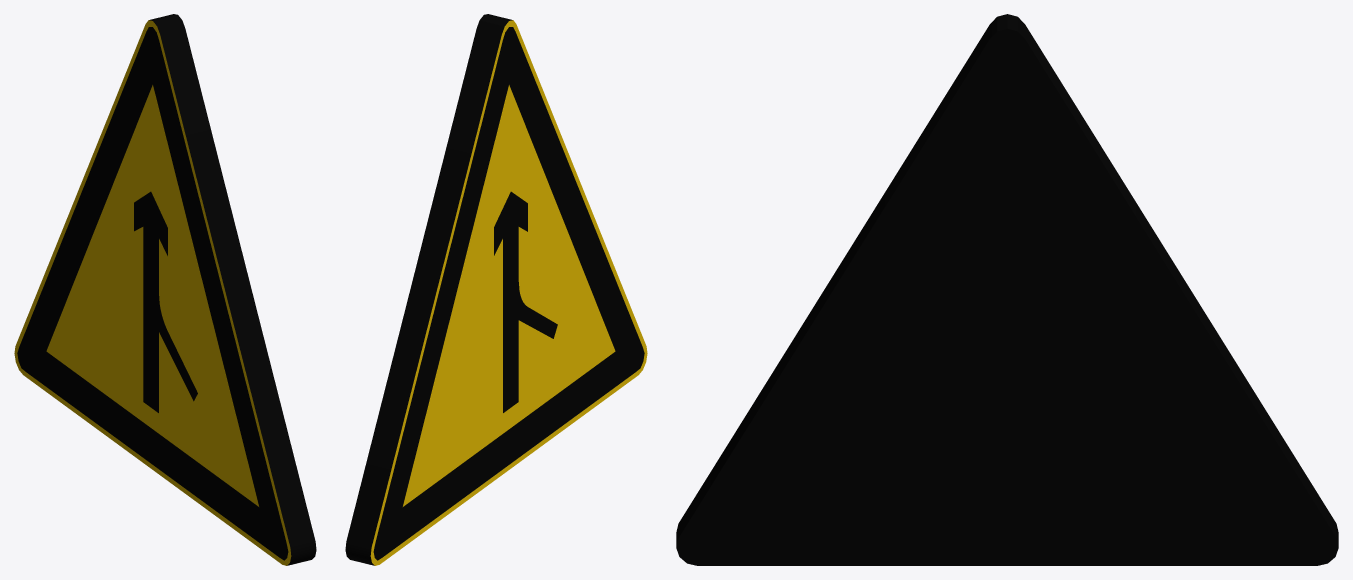
Rendered from Attention_ To_Confluence.fbx.
3 renders of one model, left to right at view 1: azimuth 30°, elevation 25°; view 2: azimuth 150°, elevation 25°; view 3: azimuth 270°, elevation 25°, orthographic. The views are drawn at different scales.
Visible parts, largest first — view 1: Attention__To_Confluence; view 2: Attention__To_Confluence; view 3: Attention__To_Confluence.
Part boxes in pixels (x1,y1,x2,y2): Attention__To_Confluence: (14, 14, 316, 565); Attention__To_Confluence: (345, 14, 647, 565); Attention__To_Confluence: (676, 14, 1338, 565).
Bounding box in the file's own units: 0.0643 × 1.02 × 1.14.
